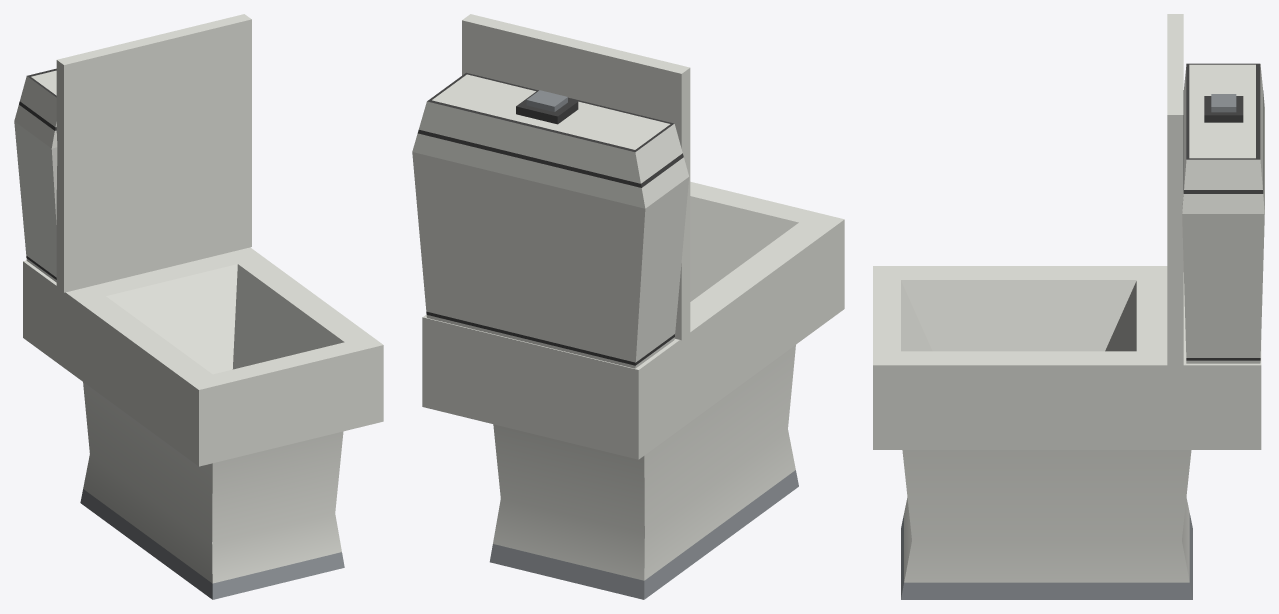
File: Toilet_Seat_2.fbx
3 renders of one model, left to right at view 1: azimuth 30°, elevation 25°; view 2: azimuth 150°, elevation 25°; view 3: azimuth 270°, elevation 25°, orthographic. The views are drawn at different scales.
Parts seen in each view (by area): view 1: polySurface1806; view 2: polySurface1806; view 3: polySurface1806.
Boxes of the visible parts, x1,y1,x2,y2 form: polySurface1806: [14, 14, 383, 599]; polySurface1806: [412, 14, 844, 599]; polySurface1806: [873, 14, 1264, 599].
Size of the model in its own units: 0.7834 by 1.7 by 1.21.
1 material, 1 textured.
